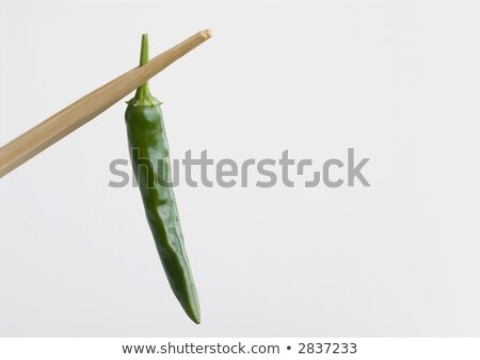Chilli: (101, 34, 229, 329)
